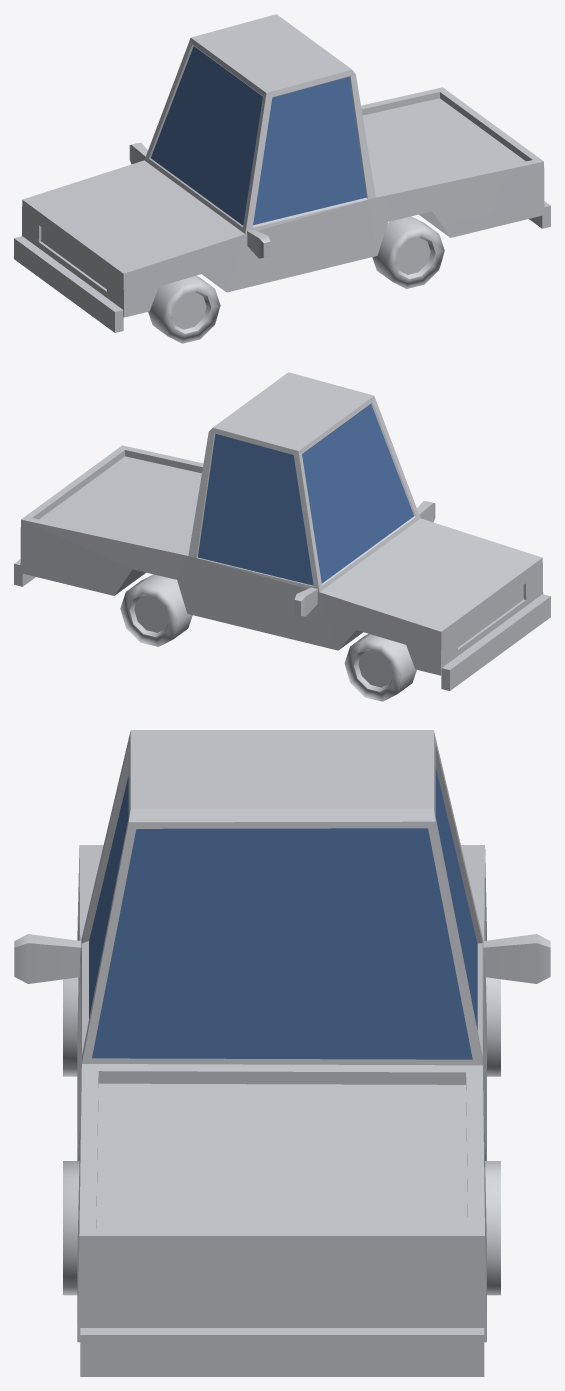
File: Truck.fbx
3 renders of one model, top to bottom at view 1: azimuth 30°, elevation 25°; view 2: azimuth 150°, elevation 25°; view 3: azimuth 270°, elevation 25°, orthographic. The views are drawn at different scales.
Parts seen in each view (by area): view 1: Truck; view 2: Truck; view 3: Truck.
Boxes of the visible parts, x1,y1,x2,y2 form: Truck: [14, 14, 550, 343]; Truck: [14, 372, 550, 701]; Truck: [14, 730, 550, 1376].
Bounding box in the file's own units: 249 × 118 × 133.
